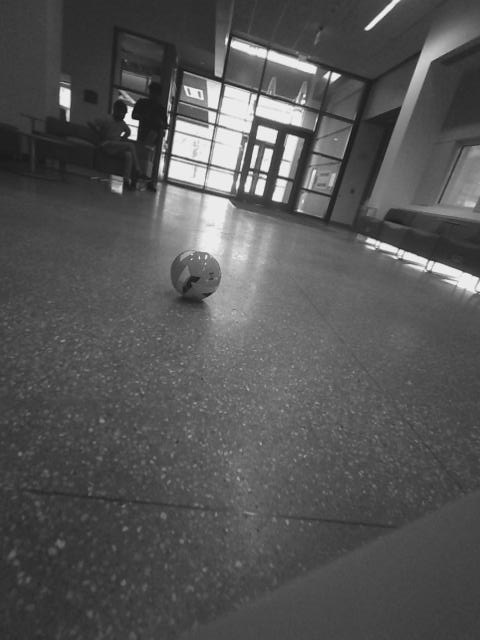ball: (284, 267, 336, 318)
